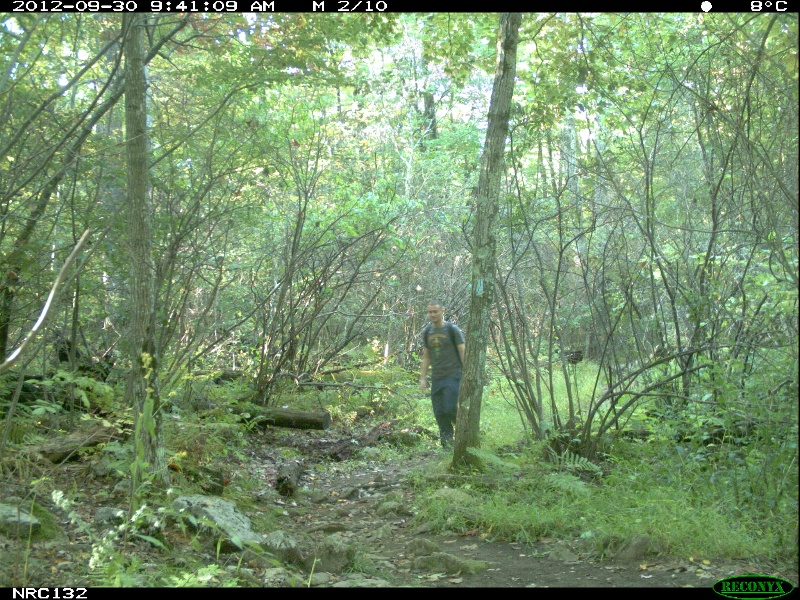human: (416, 301, 476, 465)
human face: (427, 301, 443, 325)
human legs: (429, 370, 472, 458)
